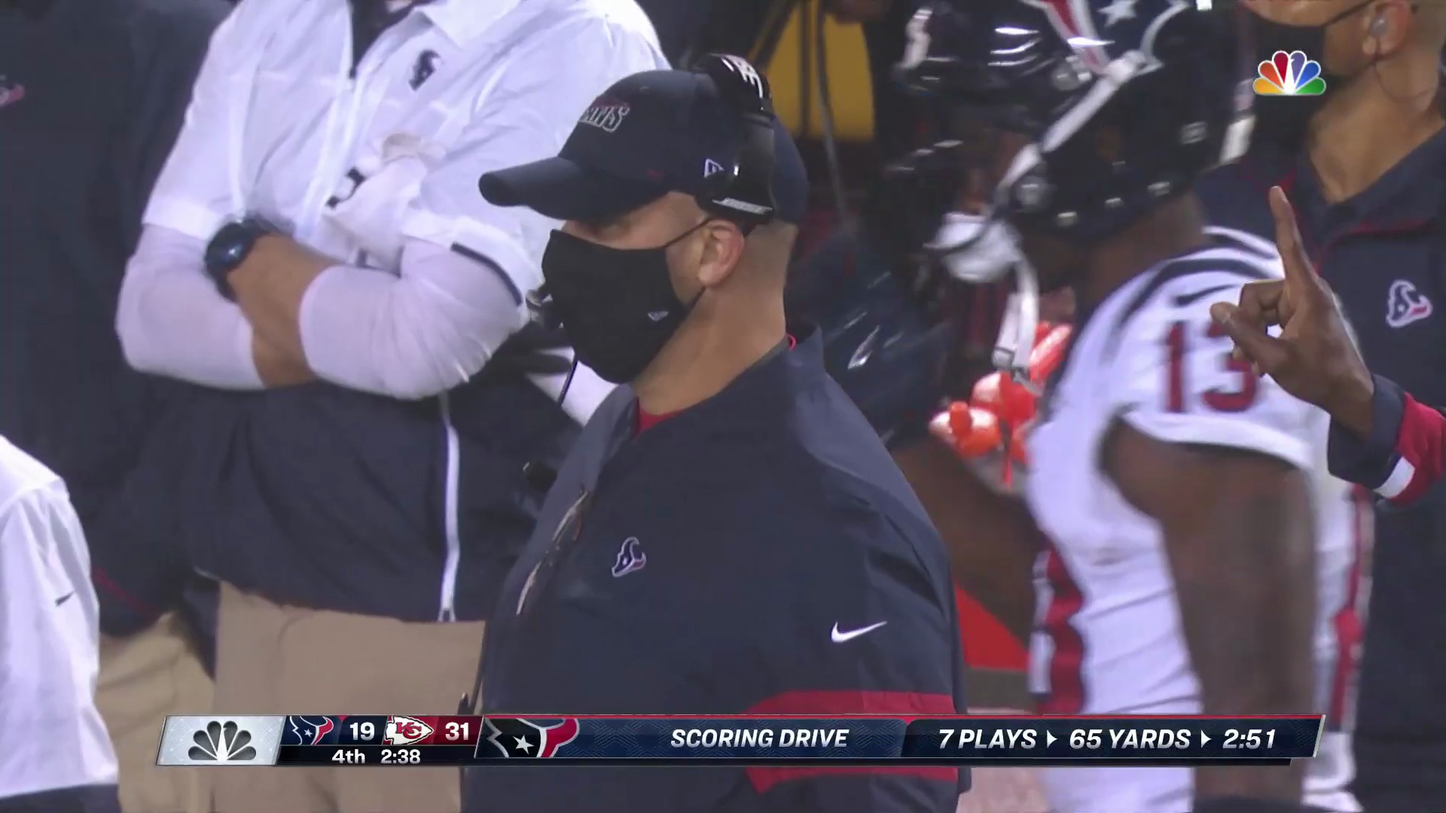Player: (1279, 0, 1446, 449)
